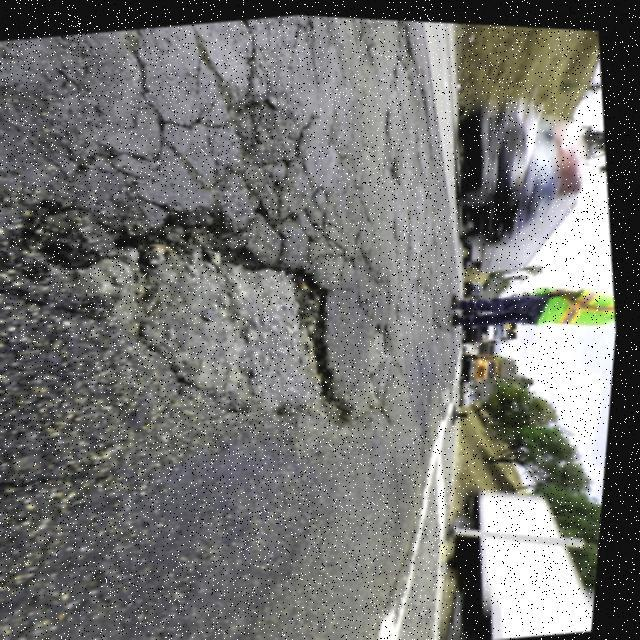pothole: (0, 173, 377, 455)
